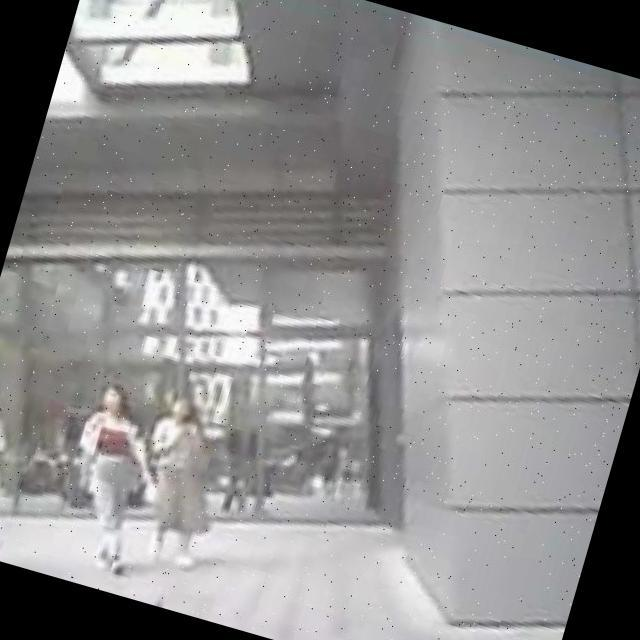person: (44, 380, 177, 578), (117, 391, 239, 573), (0, 383, 48, 562)
